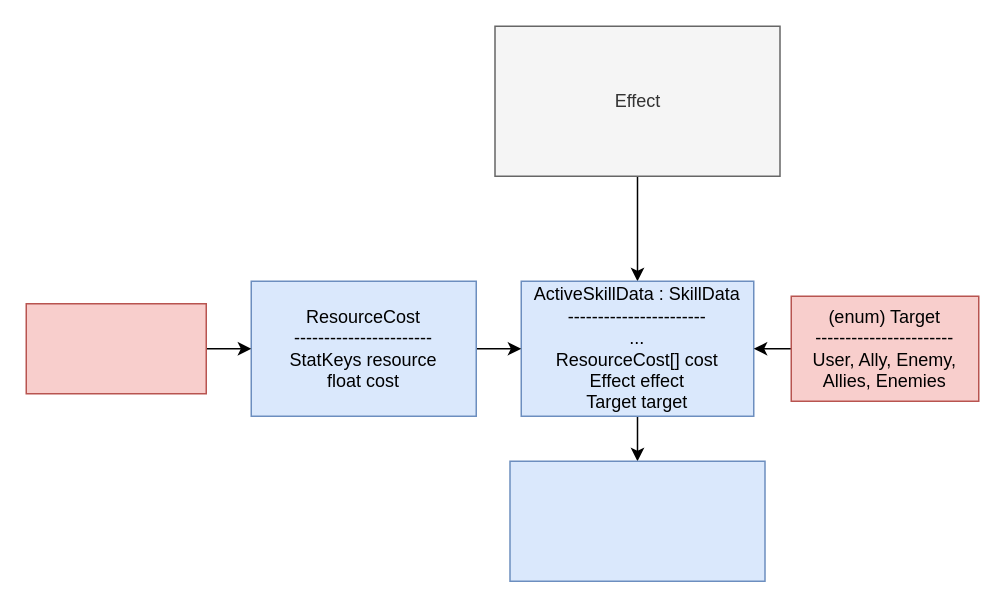
Some shapes in this 1005 by 608 pixel diagram are drawn without their labels. Here are the shapes that lost their labels. From the top down, the centre of each, then its label:
the point at 115,348: (enum) StatKeys ------------------------ HP, MP, STA, Moral, ...
the point at 636,520: Skill ----------- SkillData data int level float skillPoints
